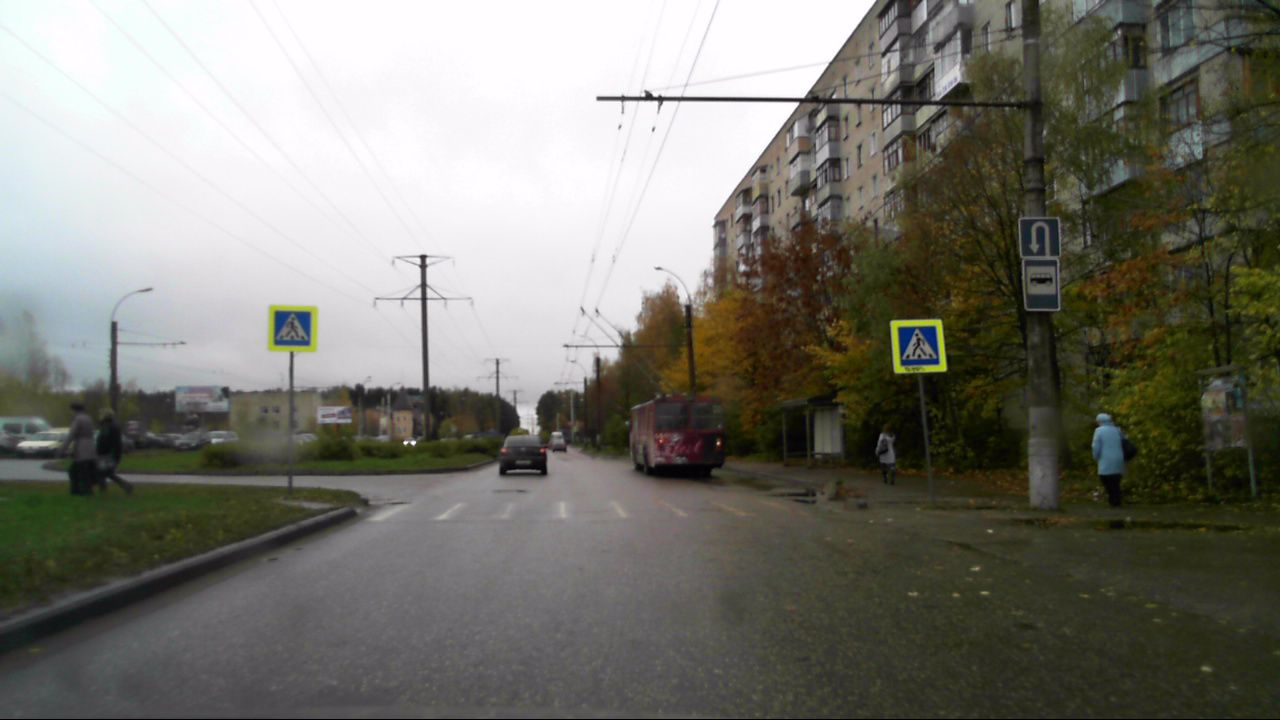Pedestrian Crossing: (898, 326, 938, 365), (274, 310, 310, 344)
U-turn: (1020, 219, 1060, 258)
